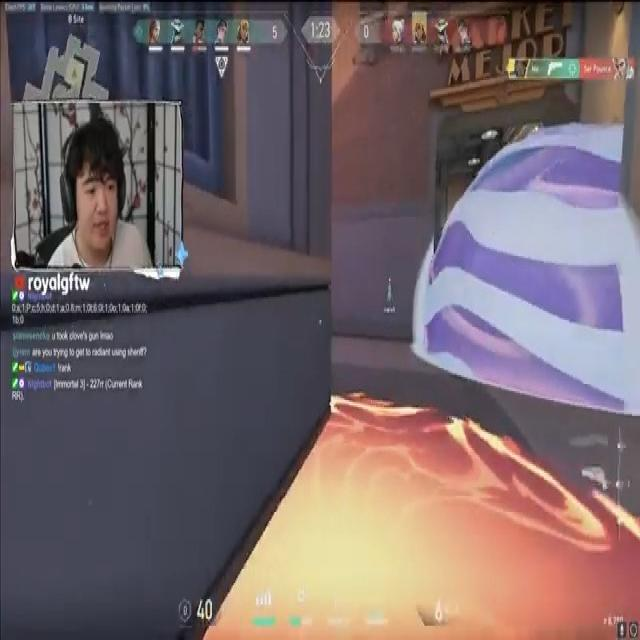smoke: (418, 124, 640, 408)
